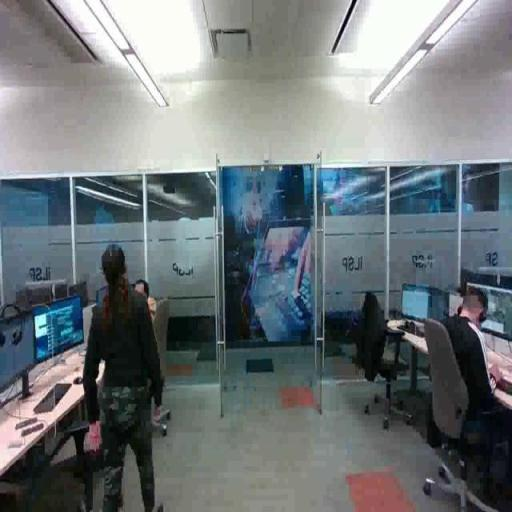person: (81, 242, 167, 512)
